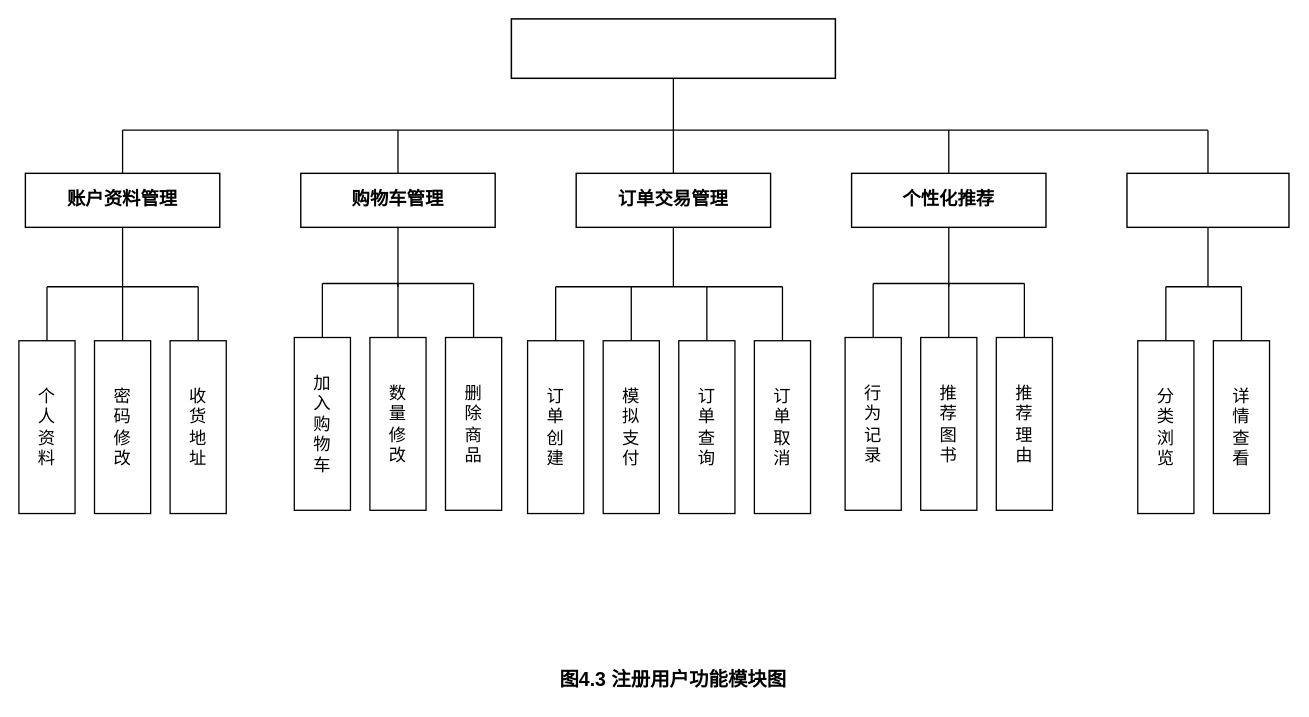
This 1309x717 diagram has some shape labels left out. The shapes that lost their labels are listed below. From the top down, each one's centre as x and y in pixels, then its label:
At pixel 673 48: "注册用户功能模块".
At pixel 1207 200: "图书浏览".
